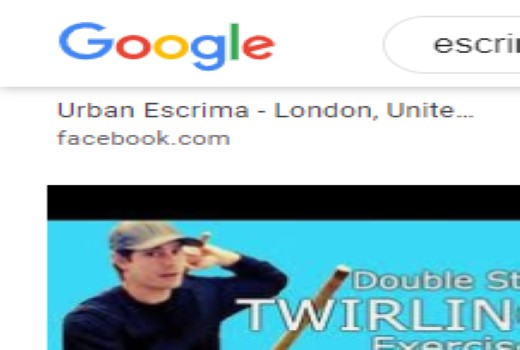baston_v: (327, 258, 352, 289), (198, 227, 212, 240)
